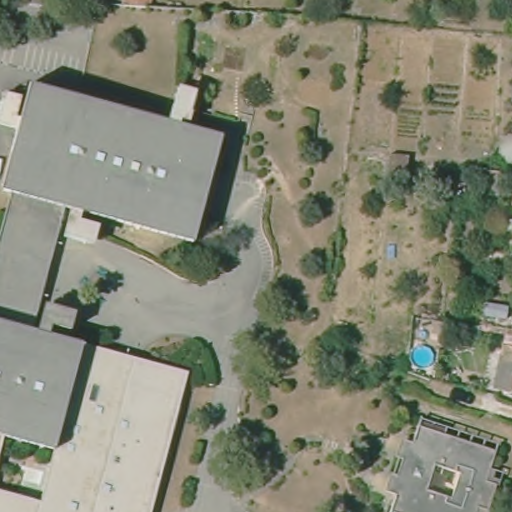pool: (407, 340, 440, 373)
